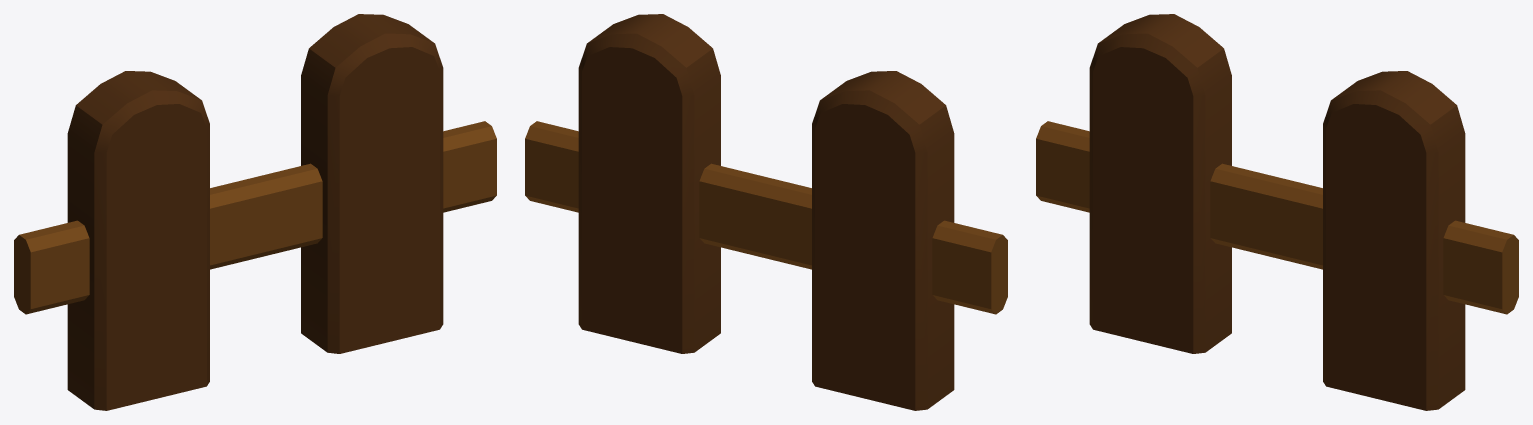
The model's file is Fence_Middle.fbx.
3 views of the same model, side by side, from view 1: azimuth 30°, elevation 25°; view 2: azimuth 150°, elevation 25°; view 3: azimuth 330°, elevation 25° (orthographic).
Parts seen in each view (by area): view 1: Fence_Middle; view 2: Fence_Middle; view 3: Fence_Middle.
Part boxes in pixels (<box>): Fence_Middle: <box>14,14,496,410</box>; Fence_Middle: <box>525,14,1007,410</box>; Fence_Middle: <box>1036,14,1518,410</box>.
Bounding box in the file's own units: 200 × 125 × 26.44.
